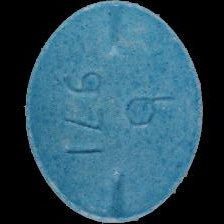0555-0971: (0, 0, 224, 224)
